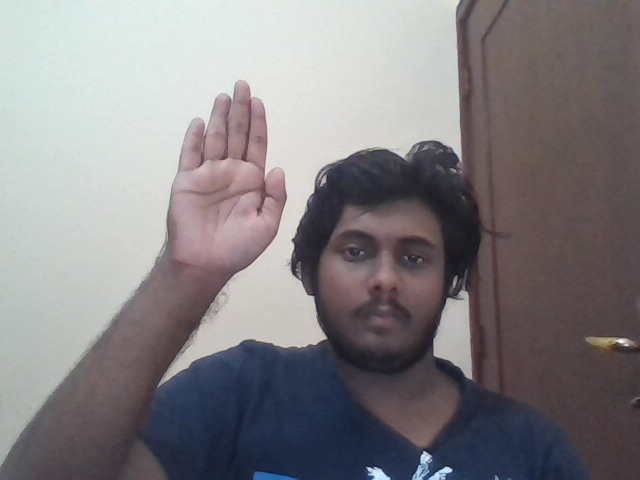hello: (167, 79, 288, 269)
